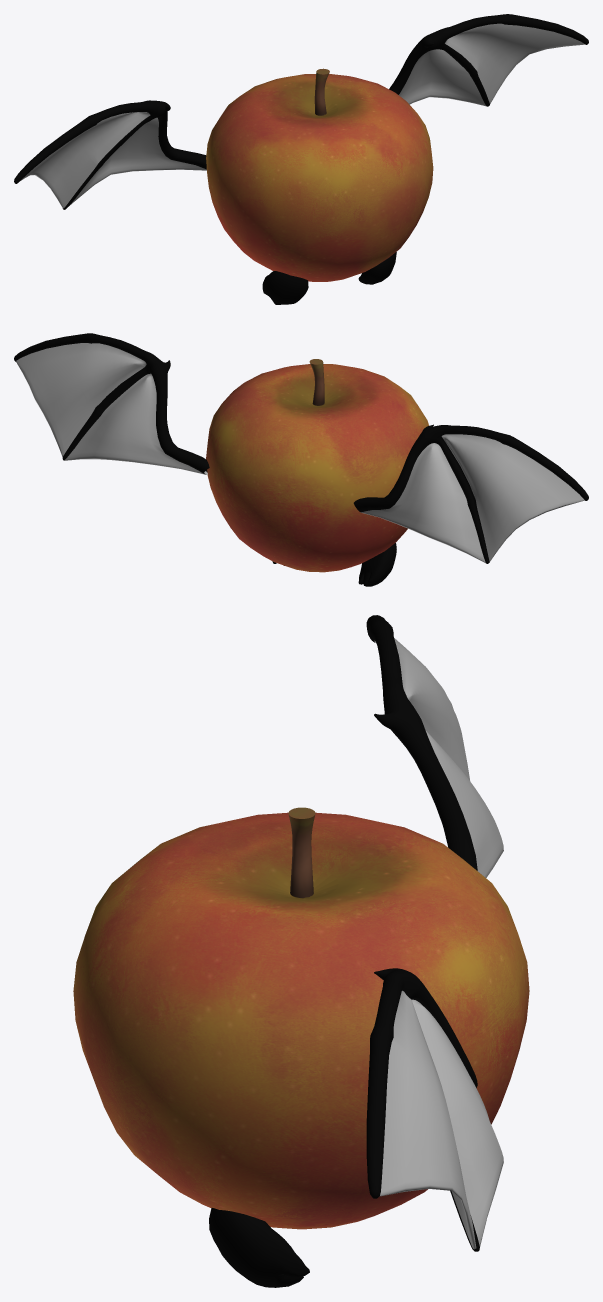
File: appleBat01.fbx
3 views of the same model, one above another, from view 1: azimuth 30°, elevation 25°; view 2: azimuth 150°, elevation 25°; view 3: azimuth 270°, elevation 25° (orthographic). The views are drawn at different scales.
Parts seen in each view (by area): view 1: Apple_msh01, Wings_msh01, Foot_msh01; view 2: Apple_msh01, Wings_msh01, Foot_msh01; view 3: Apple_msh01, Wings_msh01, Foot_msh01.
Part boxes in pixels (x1,y1,x2,y2): Apple_msh01: (206,68,433,281); Wings_msh01: (14,14,588,209); Foot_msh01: (262,252,396,304); Apple_msh01: (206,359,428,572); Wings_msh01: (14,333,588,563); Foot_msh01: (272,543,396,586); Apple_msh01: (73,807,529,1229); Wings_msh01: (366,615,503,1251); Foot_msh01: (209,1208,309,1287).
Bounding box in the file's own units: 6.34 × 2.28 × 2.18.
Materials: 3 (1 with a texture image).
